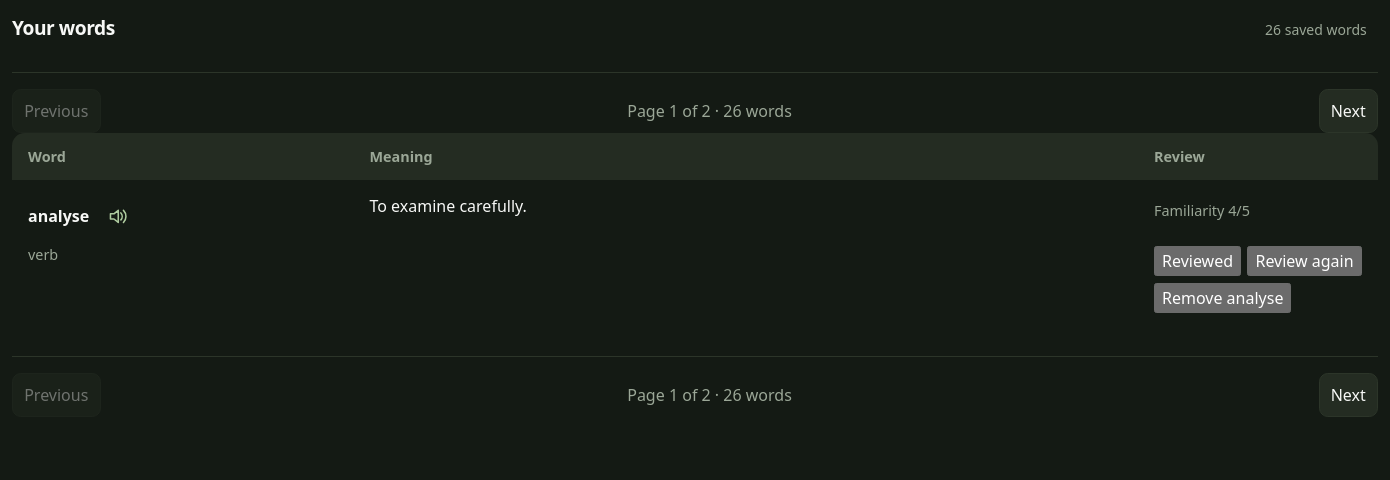
Test: rolls back a failed Review again without hiding the table
The width and height of the screenshot is (1390, 480).
Expected: the text "Familiarity 4/5" is shown, x1=1154 y1=201 x2=1250 y2=220
What coordinates should you click on to do the following:
click the button "Review again"
I would click on:
 (1305, 261)
Its box is x1=1248 y1=246 x2=1362 y2=276.
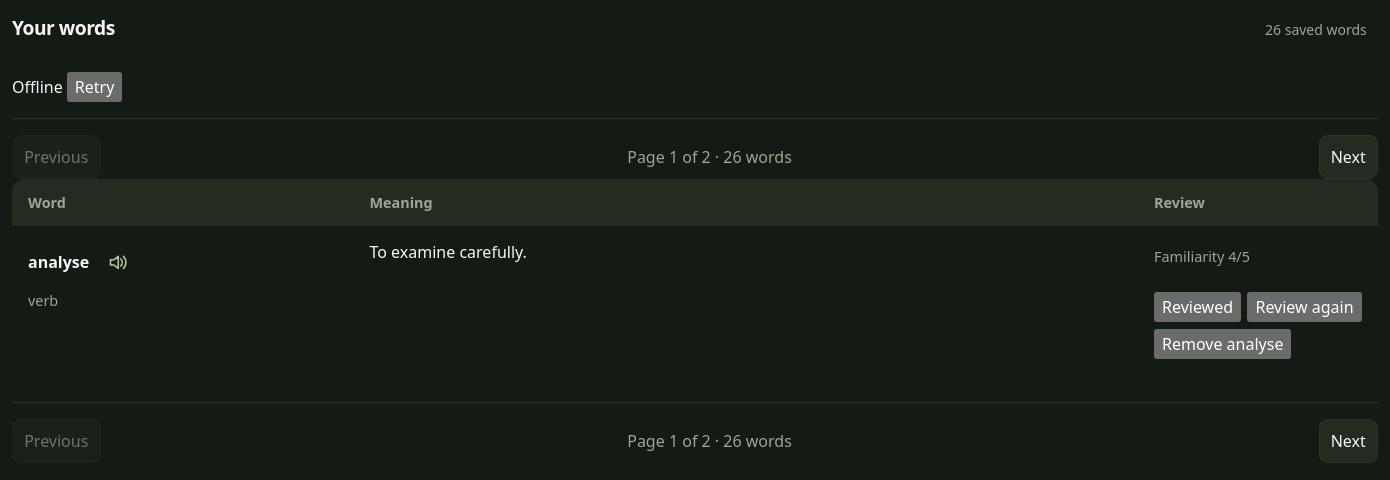
Expected: the text "Familiarity 4/5" is shown, x1=1154 y1=247 x2=1250 y2=266
Now the message shows "Offline", box x1=12 y1=76 x2=63 y2=98
